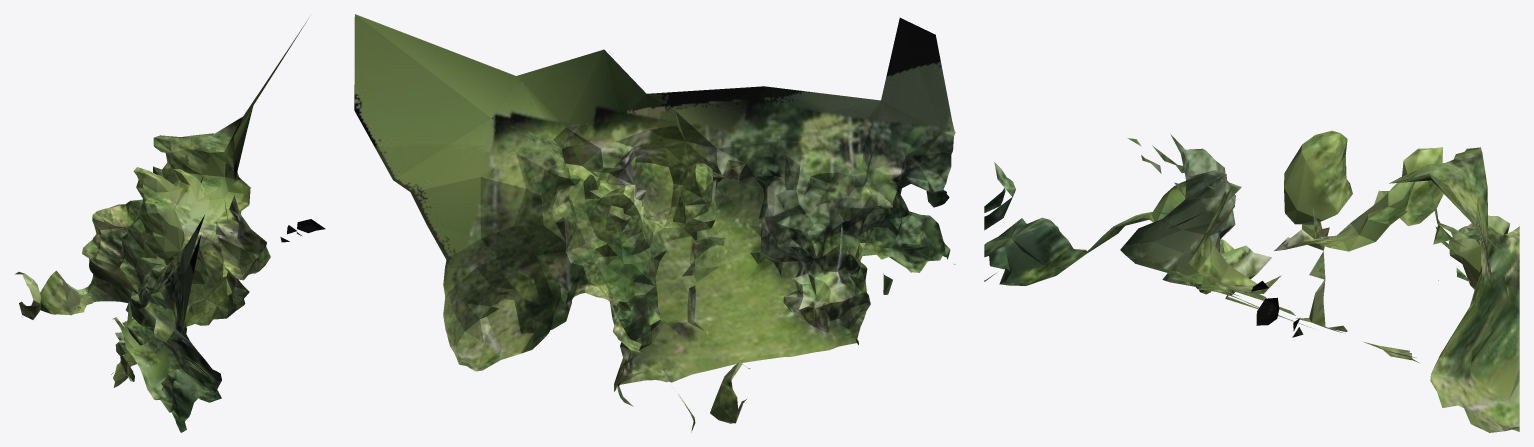
3 views of the same model, side by side, from view 1: azimuth 30°, elevation 25°; view 2: azimuth 150°, elevation 25°; view 3: azimuth 270°, elevation 25° (orthographic). The views are drawn at different scales.
Bounding box in the file's own units: 51.29 × 40.65 × 52.22.
3 materials, 3 textured.
